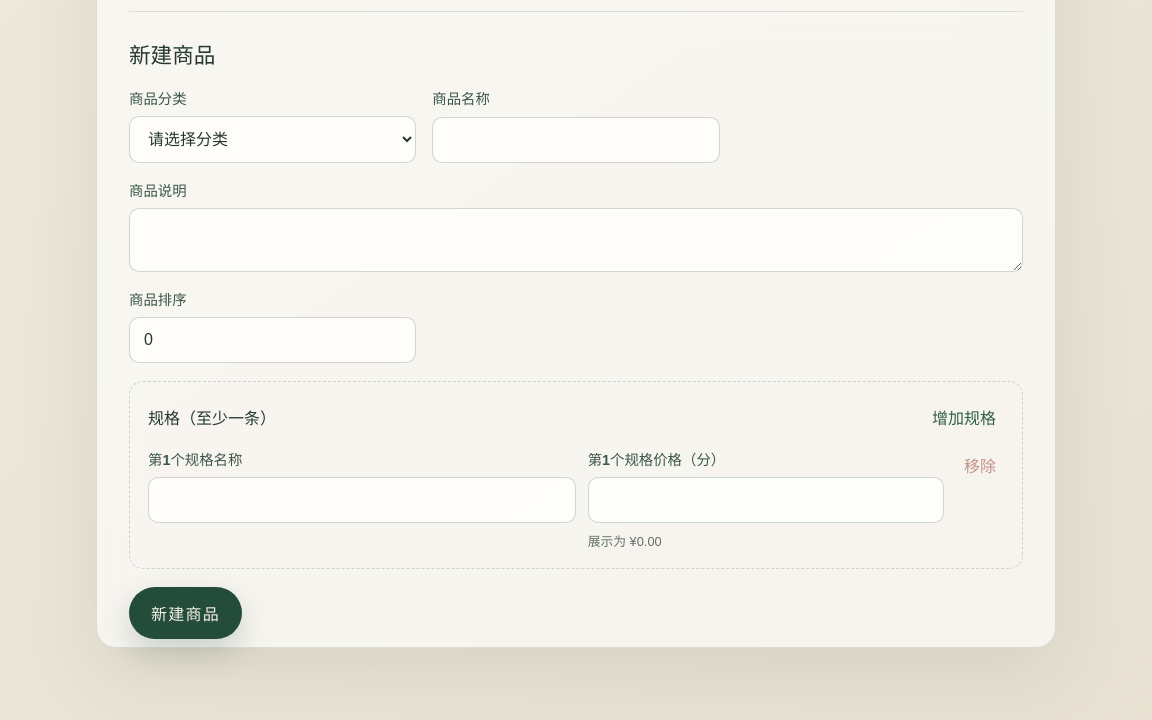
Test case: product menu management for signed-in staff › rejects empty names and fractional prices before issuing a write request
(page scrolled)
Click the button "新建商品".
click(186, 613)  # box 129,587 -> 242,639
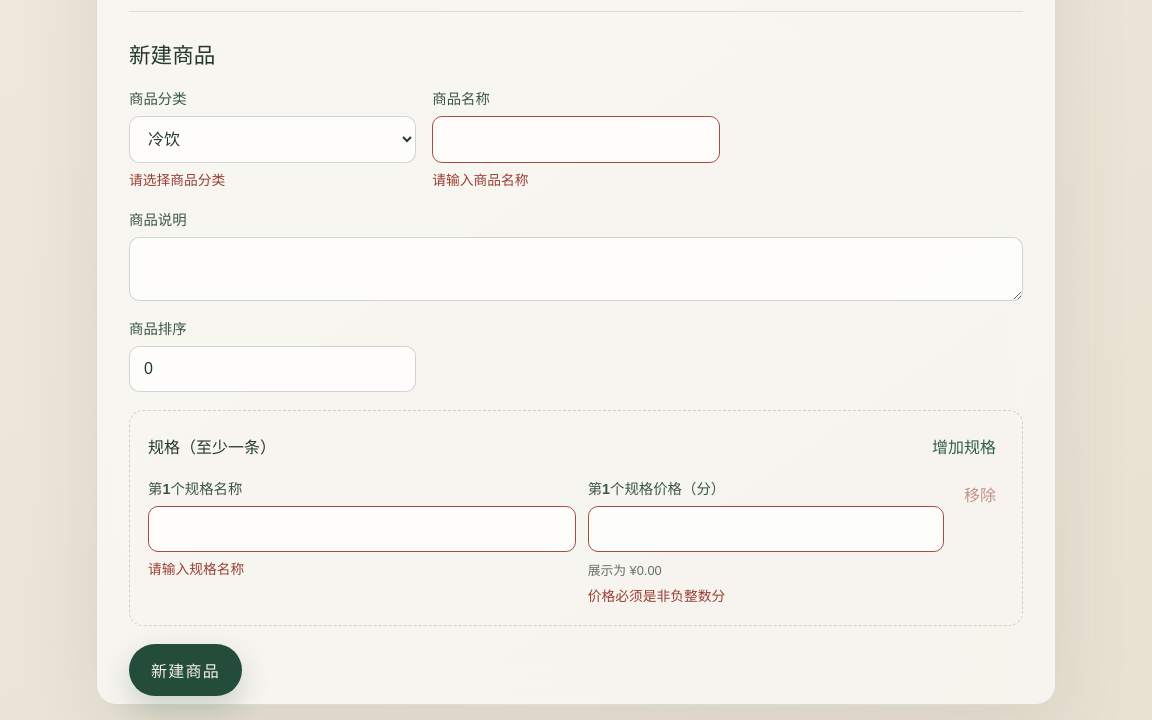
Check: the text "请输入商品名称" is shown, box 432,173 -> 529,188
Check: the text "请输入规格名称" is shown, box 148,562 -> 244,577
Check: the text "价格必须是非负整数分" is shown once, box 588,589 -> 725,604
Type "面" into the field labelled "商品名称".
click(576, 139); type("面")  # box 432,116 -> 720,163
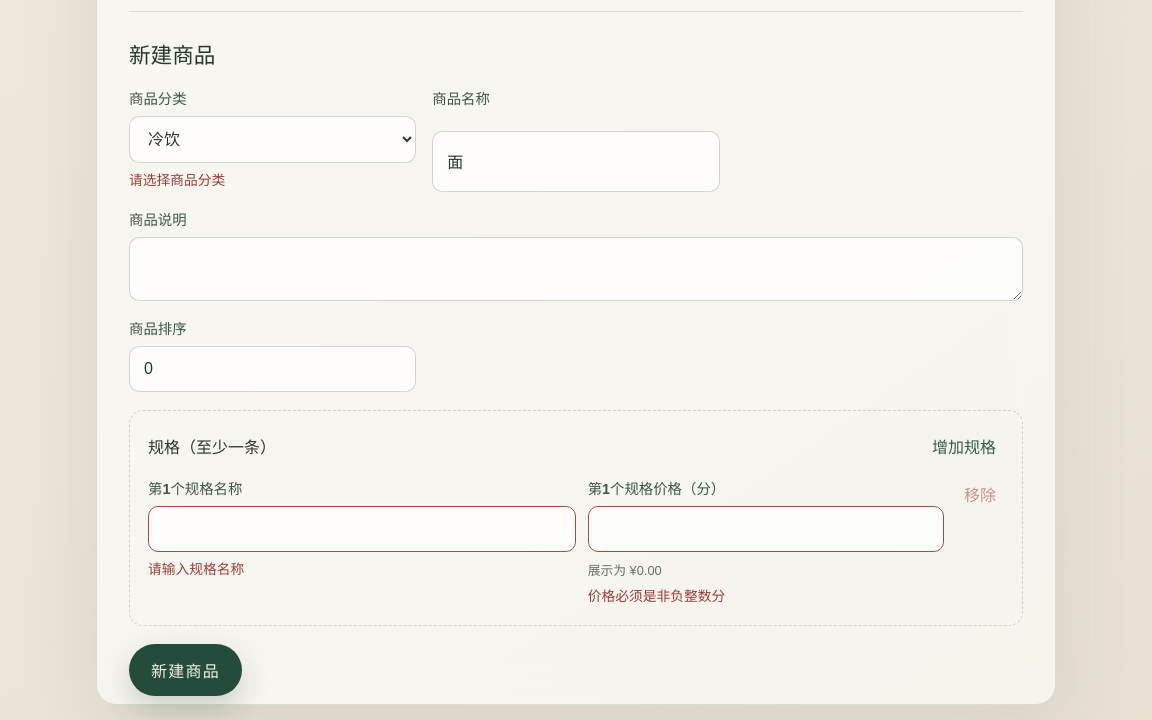
Type "小碗" into the field labelled "第1个规格名称".
click(362, 529); type("小碗")  # box 148,506 -> 576,552
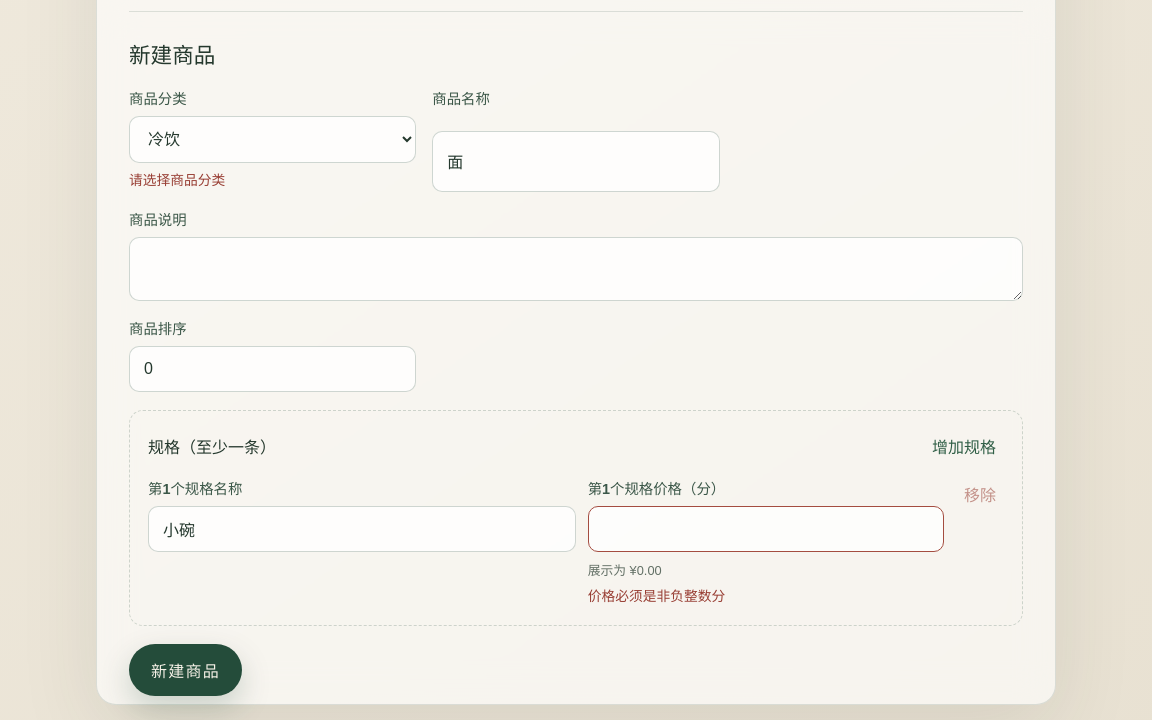
Type "12.5" into the field labelled "第1个规格价格（分）".
click(766, 529); type("12.5")  # box 588,506 -> 944,552
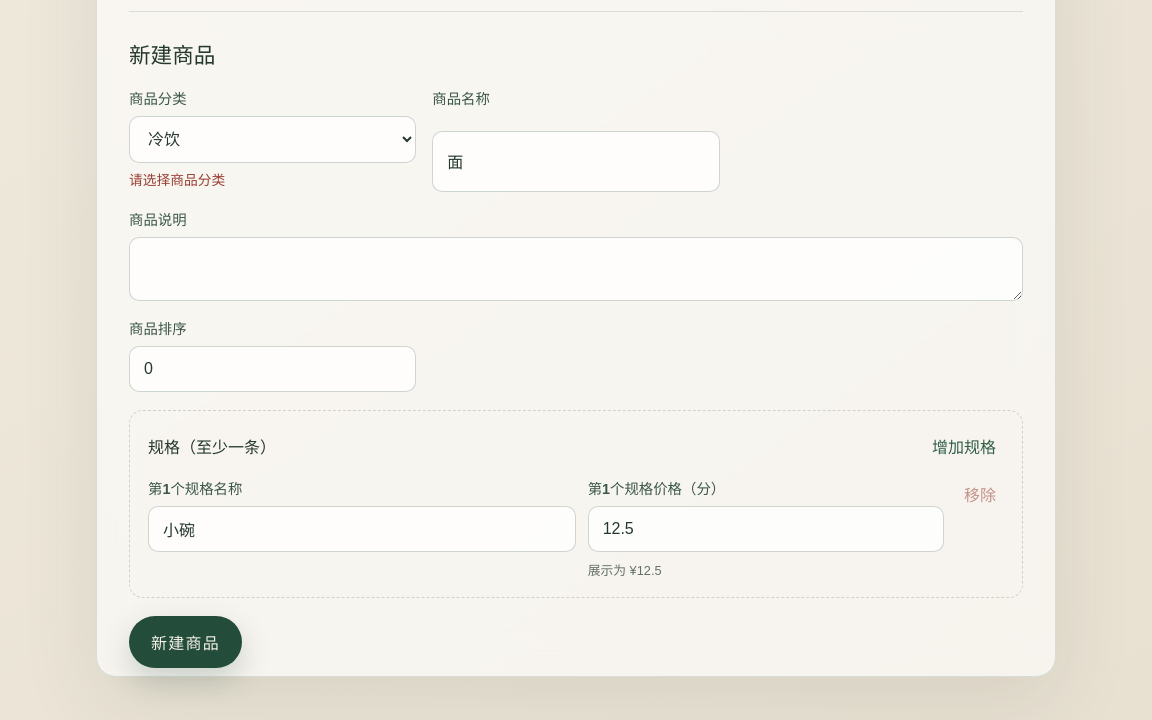
Click the button "新建商品".
click(186, 642)  # box 129,616 -> 242,668
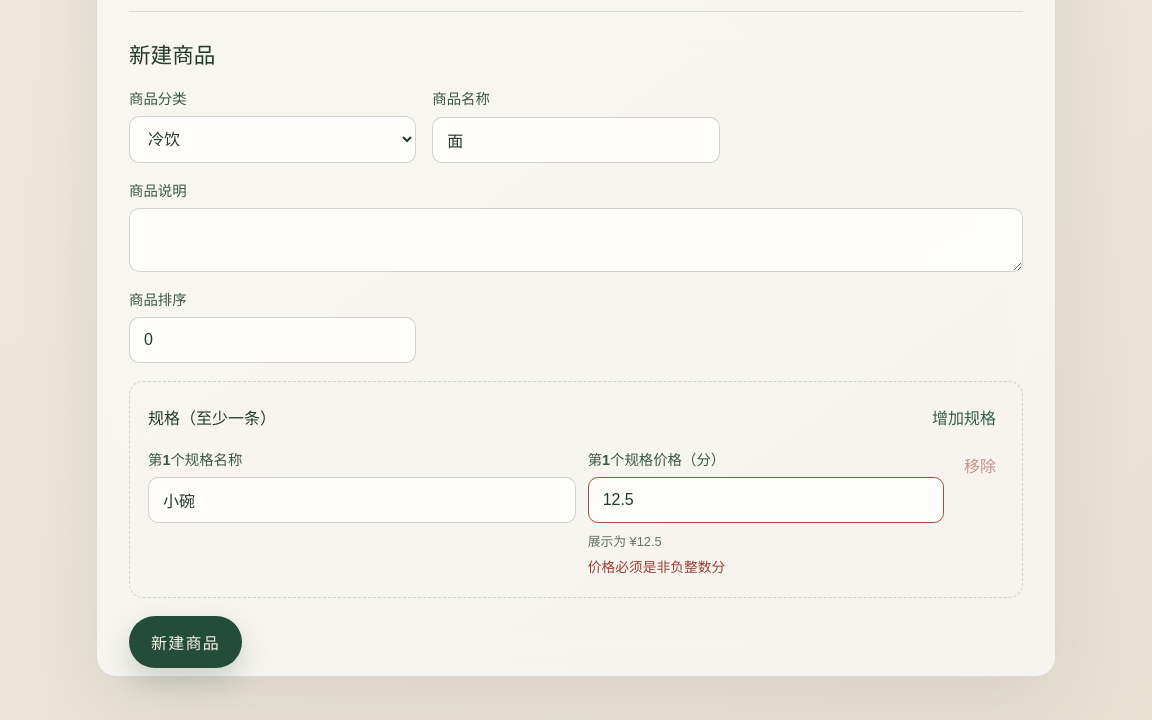
Check: the text "价格必须是非负整数分" is shown, box 588,560 -> 725,575
